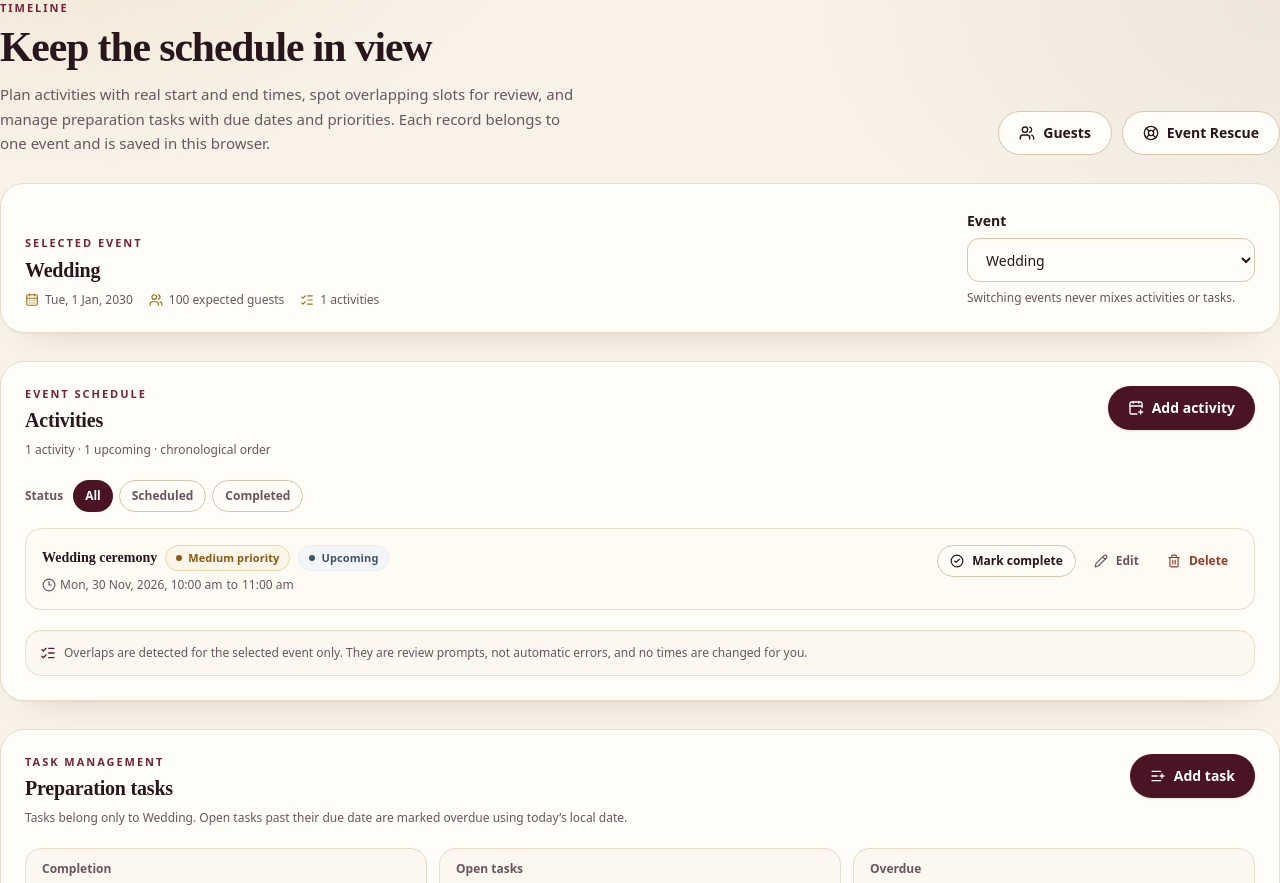
it: TimelinePage tasks and event isolation › keeps activities and tasks isolated when switching events
Expected: the heading "Wedding ceremony" is shown, [42, 548, 157, 568]
Expected: the heading "Birthday cake" is not shown
Step 1. Select "Birthday" in the dropdown labelled "Event" → (1111, 260), box [967, 238, 1255, 282]
(page scrolled)
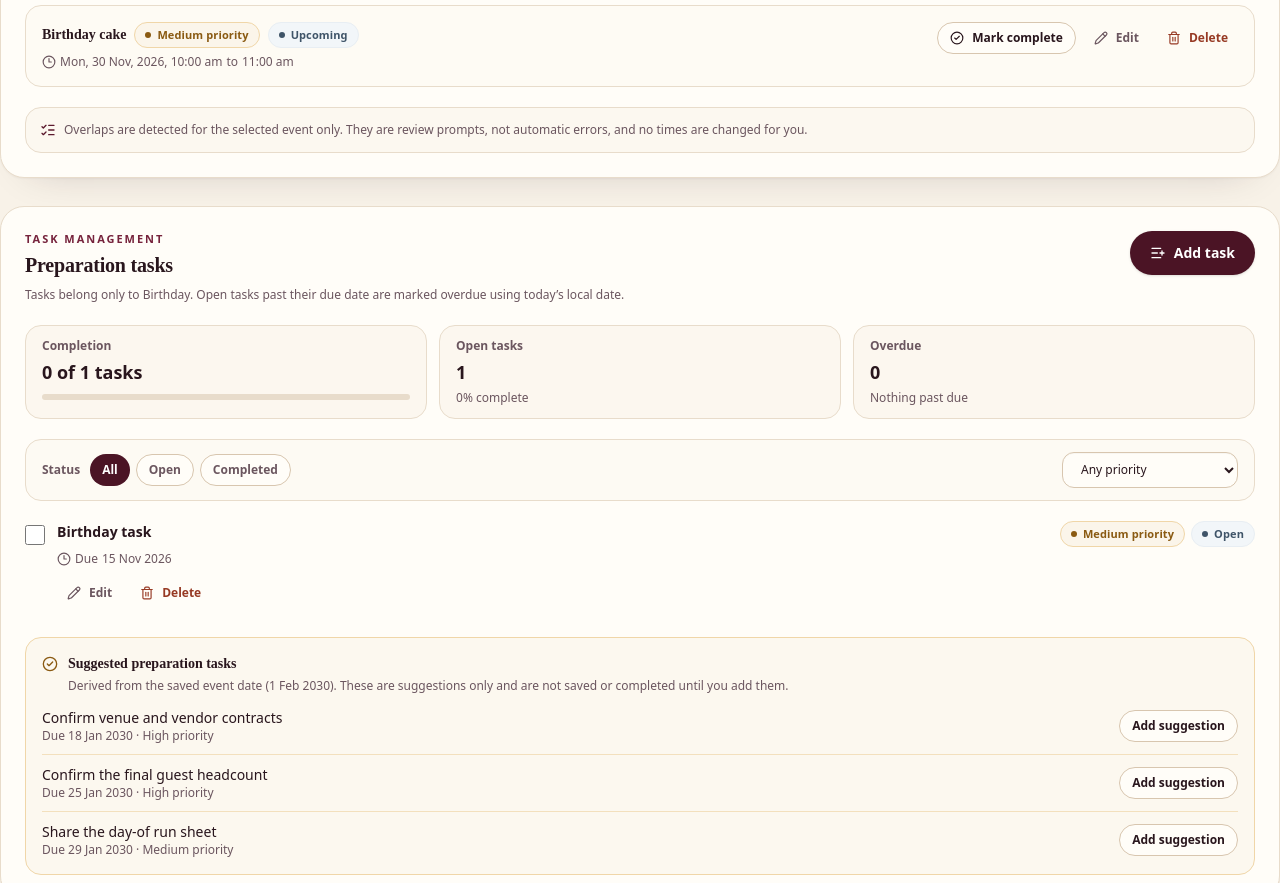
Expected: the heading "Birthday cake" is shown, [42, 25, 126, 45]
Expected: the checkbox labelled "Birthday task" is shown, [25, 525, 45, 545]
Expected: the heading "Wedding ceremony" is gone
